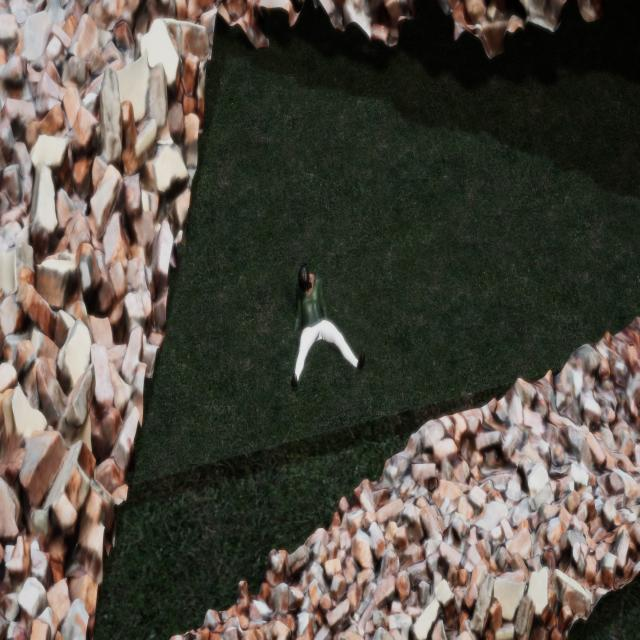Human: (282, 256, 375, 412)
